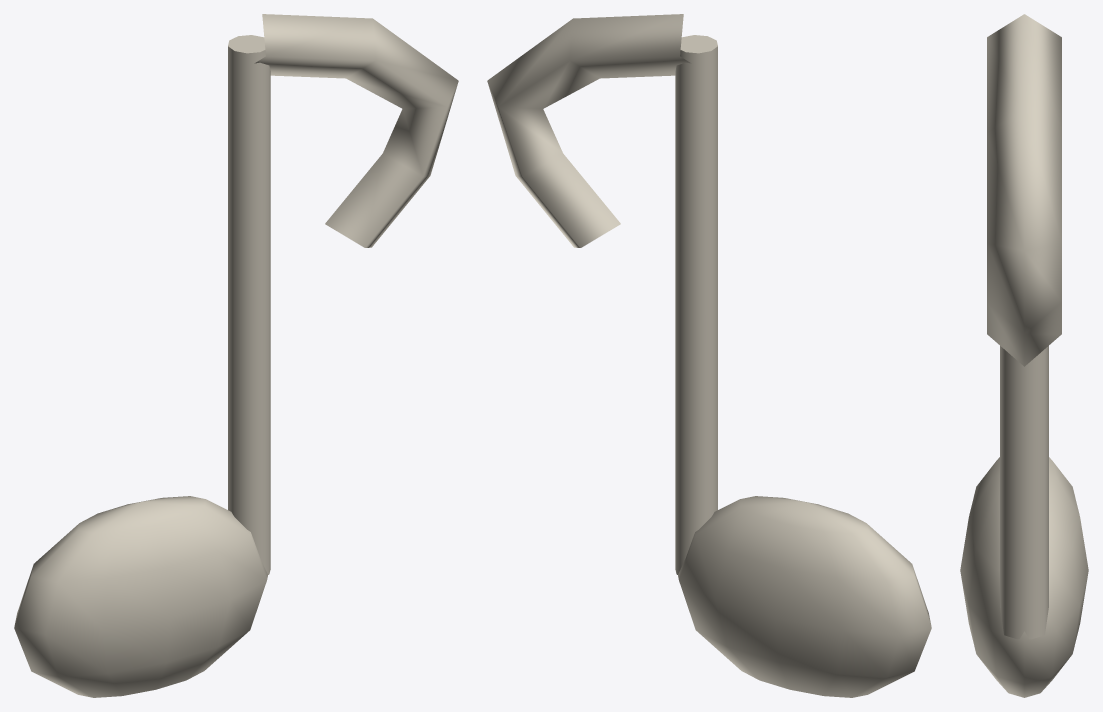
Rendered from bamboo.glb.
3 renders of one model, left to right at view 1: azimuth 30°, elevation 25°; view 2: azimuth 150°, elevation 25°; view 3: azimuth 270°, elevation 25°, orthographic. The views are drawn at different scales.
Visible parts, largest first — view 1: bamboo; view 2: bamboo; view 3: bamboo.
Boxes of the visible parts, <box> form: bamboo: <box>14,14,458,697</box>; bamboo: <box>487,14,931,697</box>; bamboo: <box>960,14,1088,697</box>.
Bounding box in the file's own units: 0.2425 × 0.3381 × 0.054.
